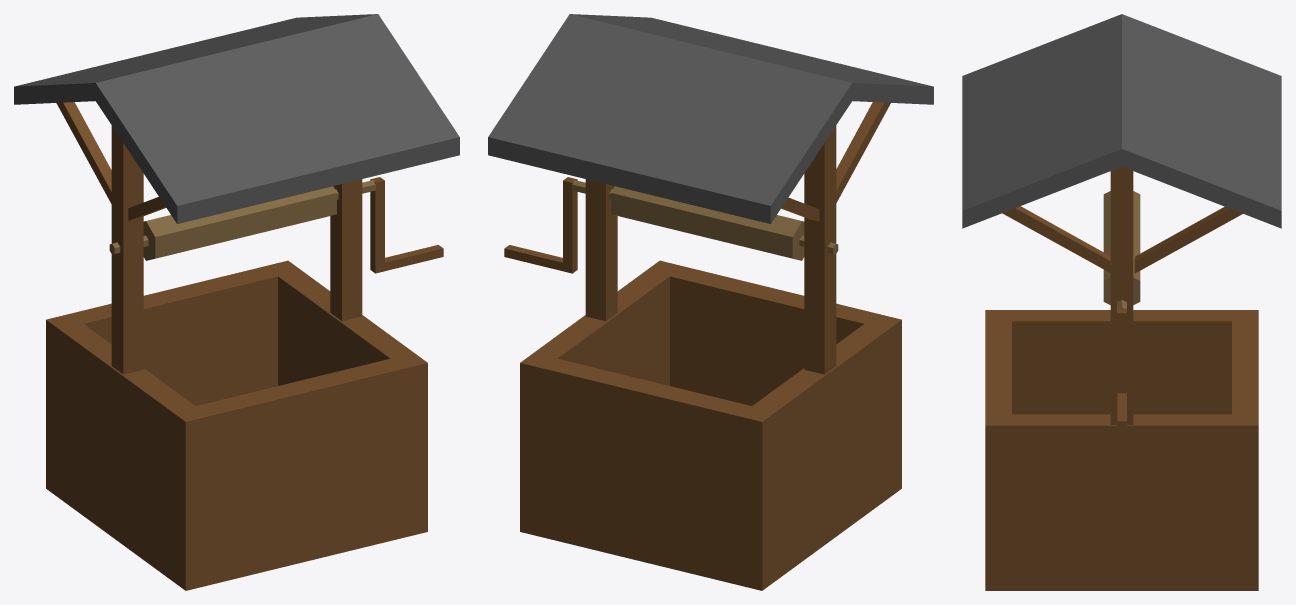
The model's file is water_well.obj.
3 renders of one model, left to right at view 1: azimuth 30°, elevation 25°; view 2: azimuth 150°, elevation 25°; view 3: azimuth 270°, elevation 25°, orthographic. The views are drawn at different scales.
Parts seen in each view (by area): view 1: water_well; view 2: water_well; view 3: water_well.
Part boxes in pixels (x1,y1,x2,y2): water_well: [14, 14, 459, 590]; water_well: [488, 14, 933, 590]; water_well: [962, 14, 1281, 590].
Size of the model in its own units: 1.71 by 2.19 by 1.4.
